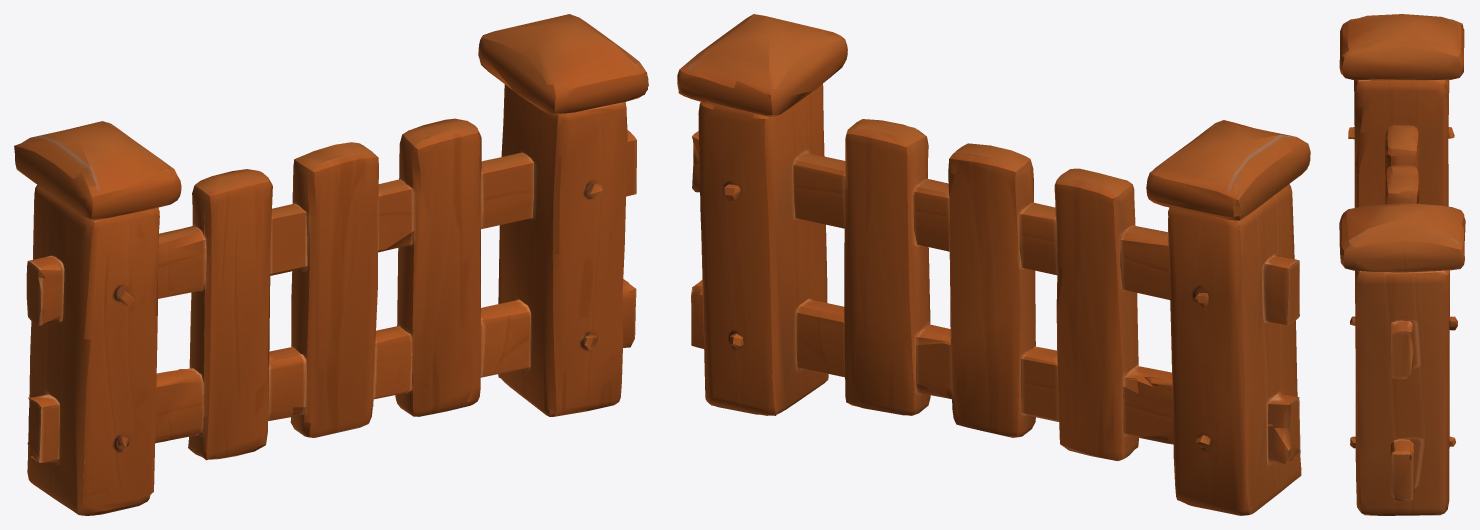
The model's file is fence_low_1.glb.
3 views of the same model, side by side, from view 1: azimuth 30°, elevation 25°; view 2: azimuth 150°, elevation 25°; view 3: azimuth 270°, elevation 25° (orthographic). The views are drawn at different scales.
Parts seen in each view (by area): view 1: Mesh0; view 2: Mesh0; view 3: Mesh0.
Part boxes in pixels (left/top/right/bottom): Mesh0: left=14, top=14, right=648, bottom=515; Mesh0: left=677, top=14, right=1310, bottom=515; Mesh0: left=1339, top=14, right=1465, bottom=515.
Bounding box in the file's own units: 0.9506 × 0.5682 × 0.2157.
1 material, 1 textured.
